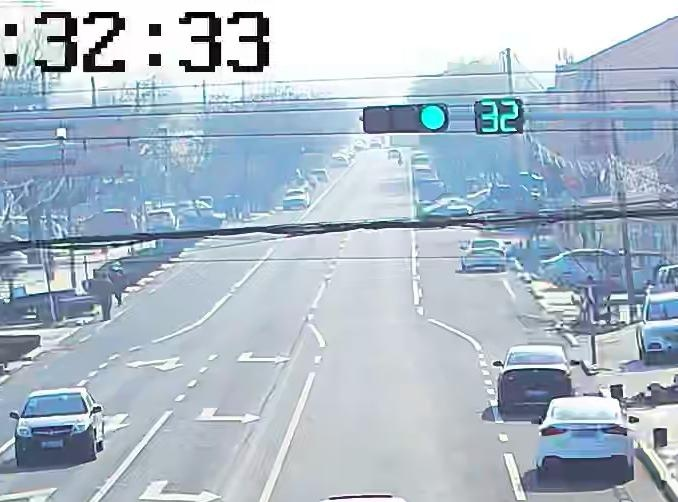green: (418, 104, 451, 137)
greentime: (479, 100, 515, 136)
